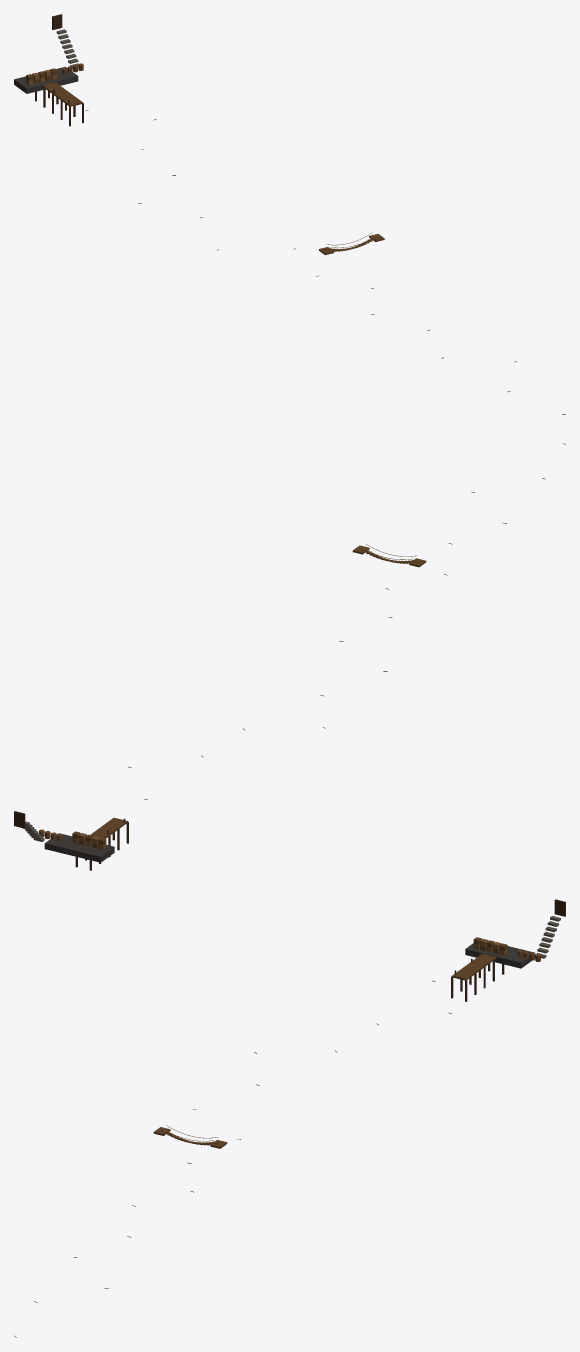
File: cave_smugglers_throat_props.glb
3 renders of one model, top to bottom at view 1: azimuth 30°, elevation 25°; view 2: azimuth 150°, elevation 25°; view 3: azimuth 330°, elevation 25°, orthographic. The views are drawn at different scales.
Visible parts, largest first — view 1: geometry_0; view 2: geometry_0; view 3: geometry_0.
Boxes of the visible parts, box(x1,y1,x2,y2) form: geometry_0: box(14, 14, 565, 414); geometry_0: box(14, 443, 565, 870); geometry_0: box(14, 899, 565, 1337).
Bounding box in the file's own units: 33.19 × 18.74 × 237.
